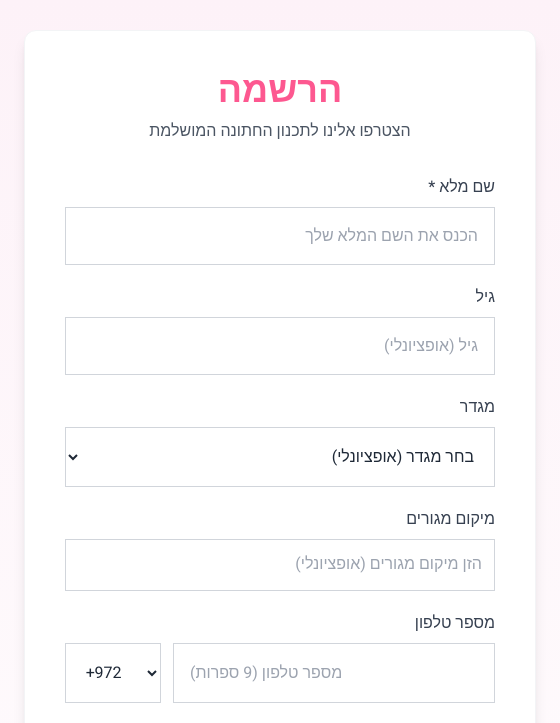
Register Page › handles network error during registration
The width and height of the screenshot is (560, 723).
// מלא שדות חובה
In the field with placeholder "הכנס את השם המלא שלך": (280, 236) 65,207 -> 495,265, type "Test User"
(page scrolled)
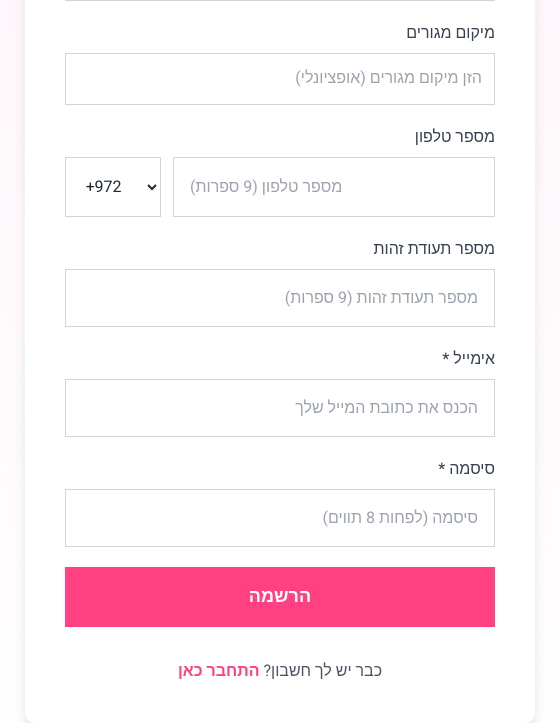
In the field with placeholder "הכנס את כתובת המייל שלך": (280, 408) 65,379 -> 495,437, type "test@example.com"
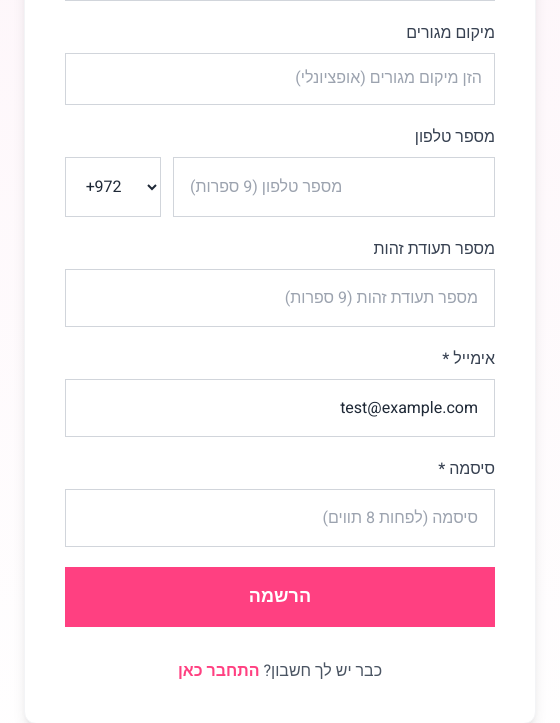
In the password field with placeholder "סיסמה (לפחות 8 תווים)": (280, 518) 65,489 -> 495,547, type "password123"
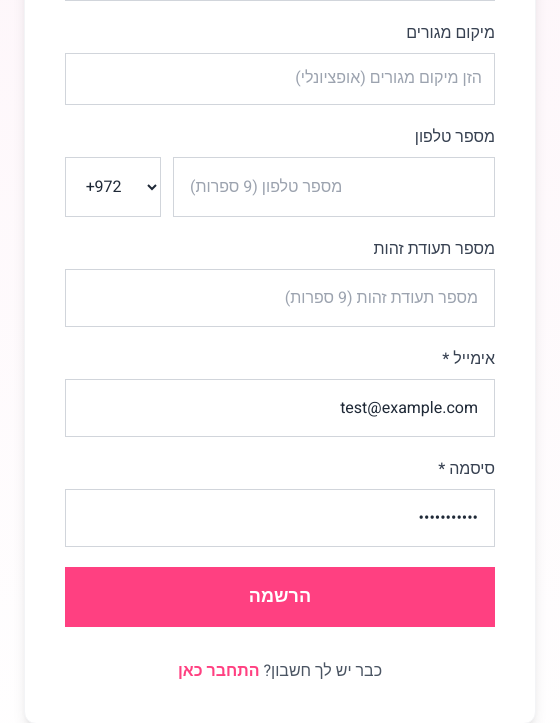
Click the button "הרשמה": (280, 597) 65,567 -> 495,627
(page scrolled)
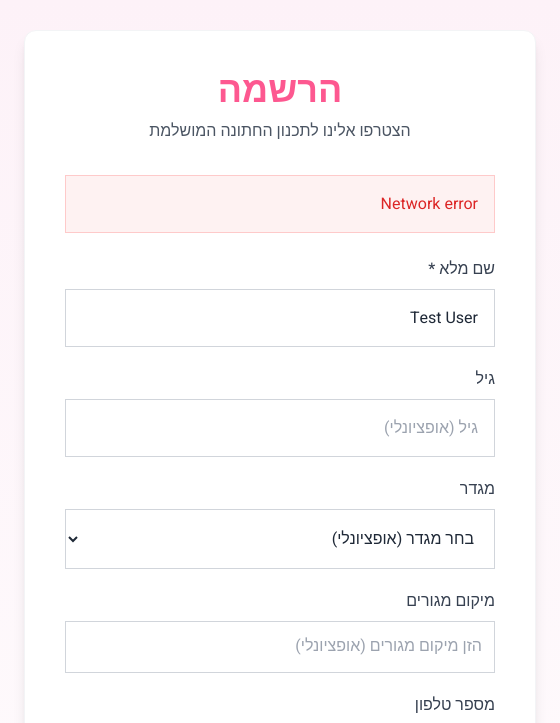
Result: the text "Network error" is shown at 65,175 -> 495,233
